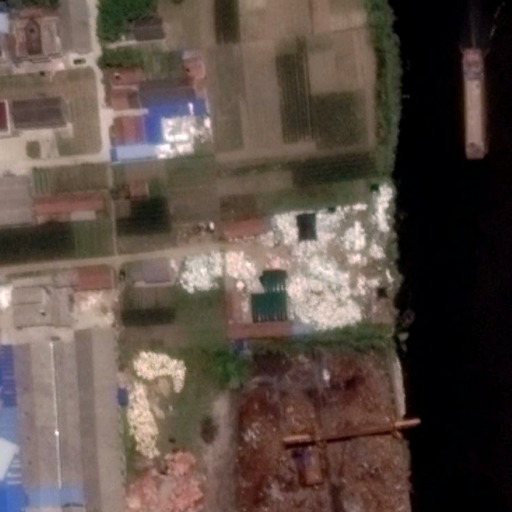msw: (175, 188, 391, 331), (125, 346, 185, 460)
